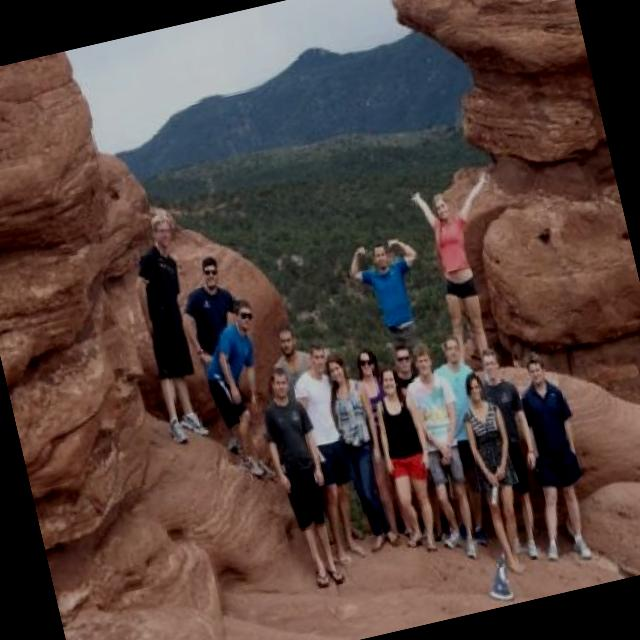Person: (245, 351, 352, 598), (115, 202, 222, 448), (406, 167, 530, 379), (167, 246, 279, 468), (496, 347, 606, 570), (280, 333, 378, 570), (464, 334, 559, 564), (391, 335, 488, 552), (188, 292, 293, 488), (422, 332, 512, 550), (452, 369, 536, 572), (320, 346, 402, 552), (382, 332, 462, 542), (364, 362, 452, 548), (343, 341, 421, 548), (342, 228, 438, 362), (262, 320, 328, 402), (390, 335, 430, 398)
